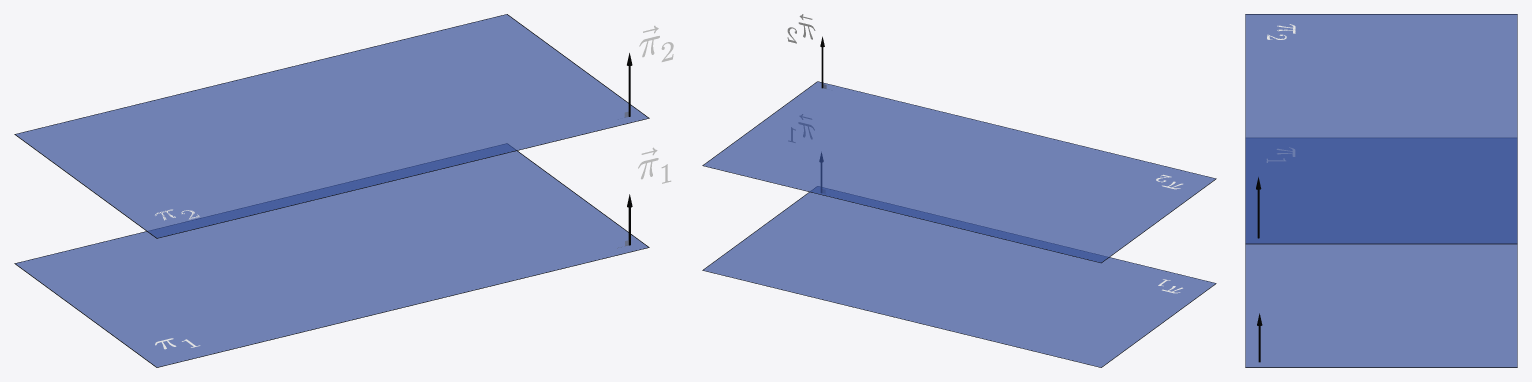
File: pi_paralelo_pi.glb
The picture shows the model from 3 angles, left to right: view 1: azimuth 30°, elevation 25°; view 2: azimuth 150°, elevation 25°; view 3: azimuth 270°, elevation 25°; orthographic projection. The views are drawn at different scales.
Visible parts, largest first — view 1: Plano.001, Plano; view 2: Plano.001, Plano; view 3: Plano.001, Plano.
Boxes of the visible parts, x1,y1,x2,y2 form: Plano.001: [14, 14, 649, 238]; Plano: [14, 143, 649, 367]; Plano.001: [702, 81, 1216, 263]; Plano: [702, 186, 1216, 367]; Plano.001: [1245, 14, 1517, 244]; Plano: [1245, 138, 1517, 367].
Bounding box in the file's own units: 4.25 × 1.67 × 2.
